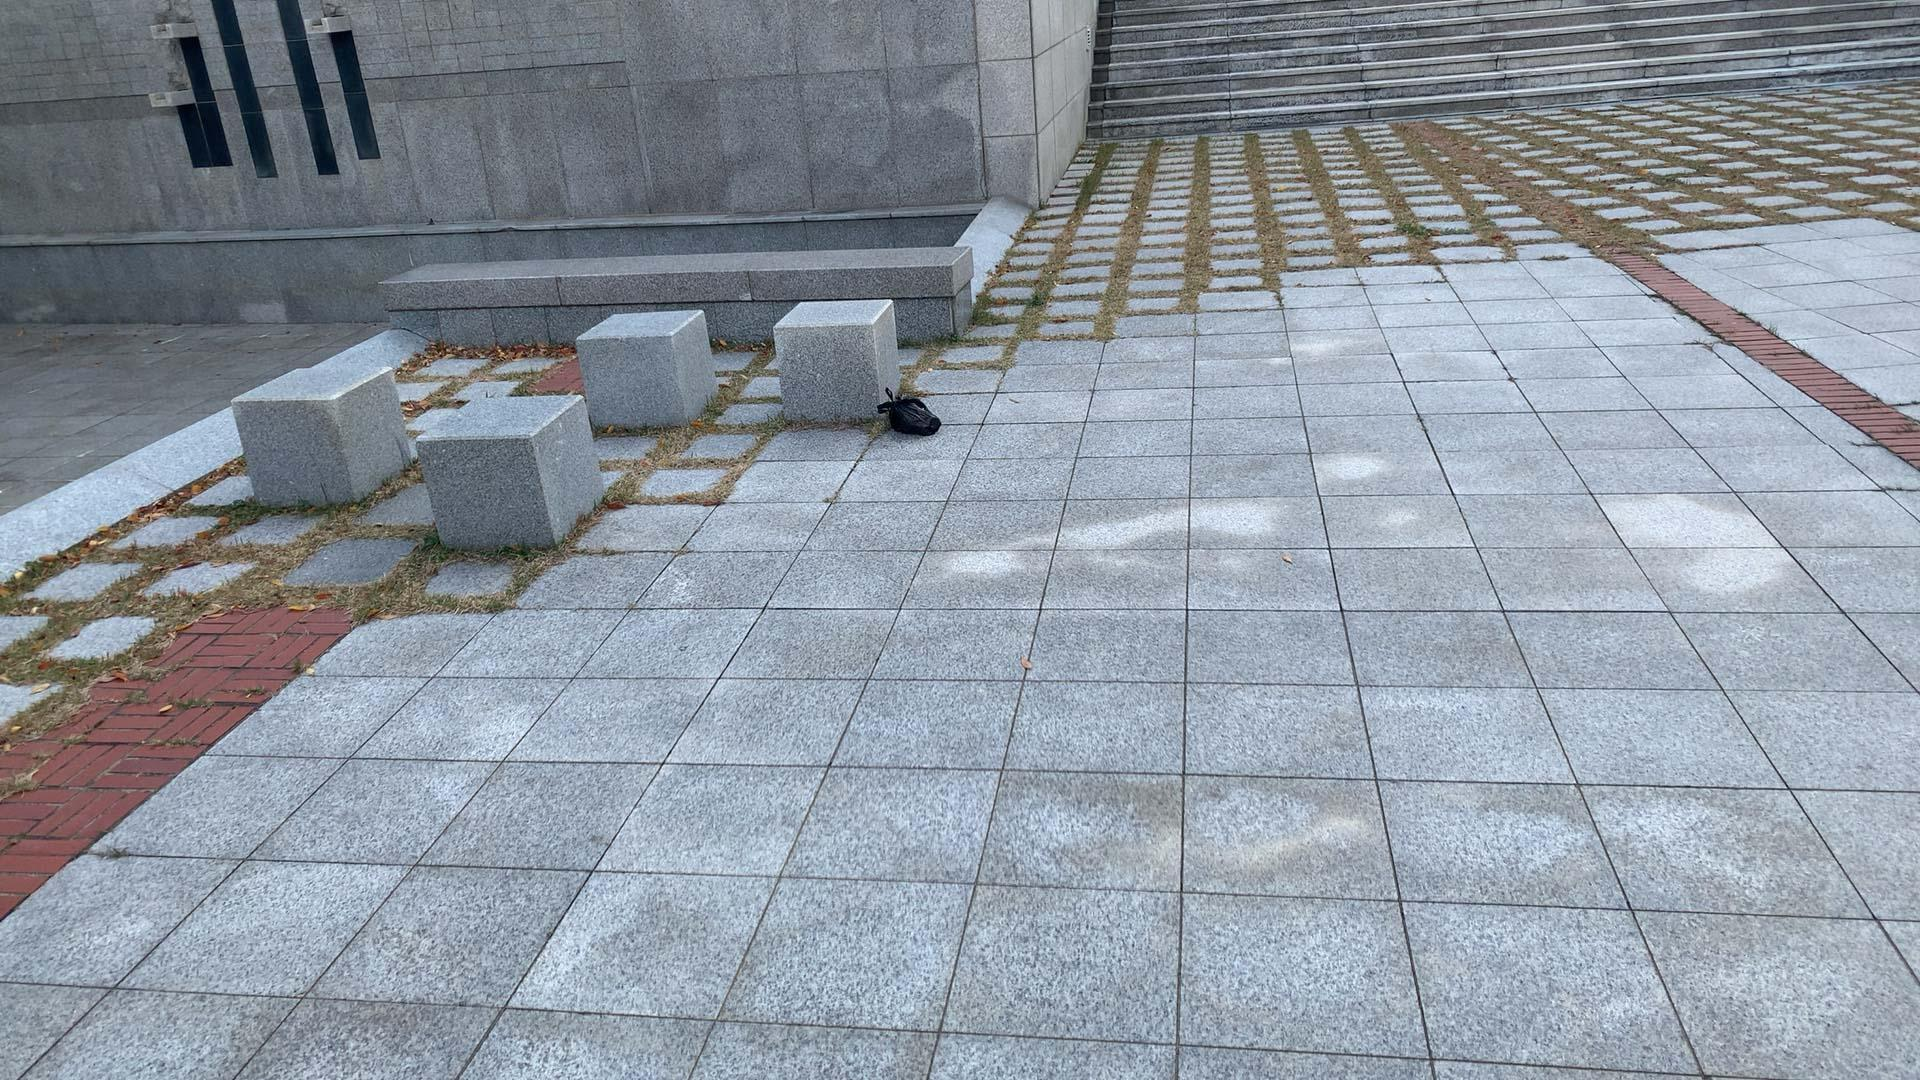black_bag: (866, 382, 952, 440)
